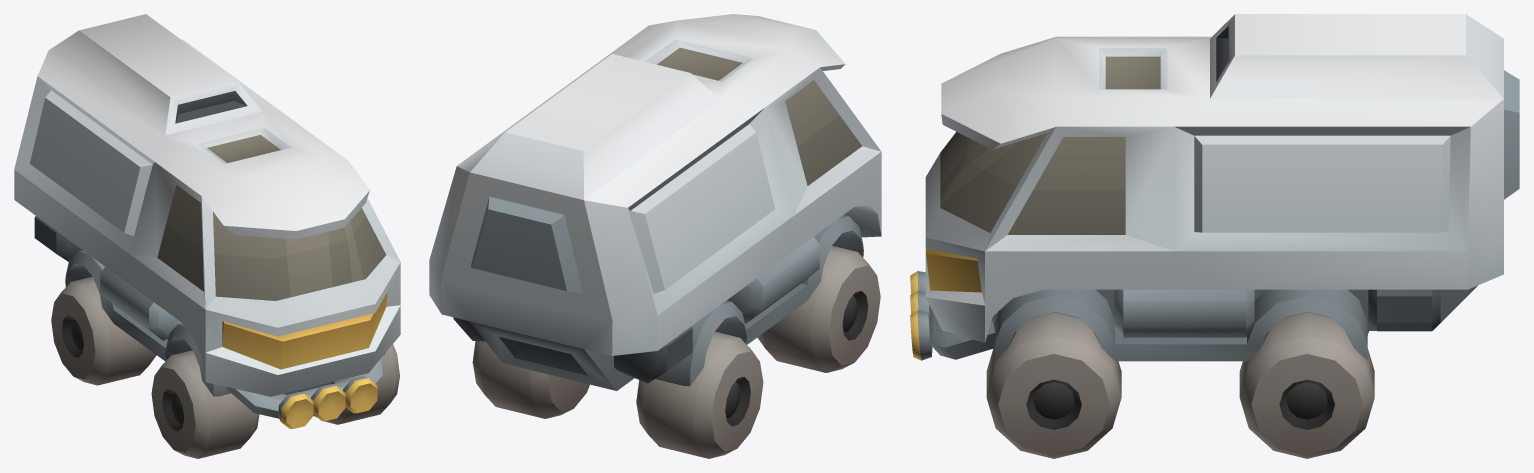
Rendered from Space Truck-HnXp3ZkfDk.glb.
The picture shows the model from 3 angles, left to right: view 1: azimuth 30°, elevation 25°; view 2: azimuth 150°, elevation 25°; view 3: azimuth 270°, elevation 25°; orthographic projection. The views are drawn at different scales.
Visible parts, largest first — view 1: spacetruck_large, spacetruck_large_wheel_front_right, spacetruck_large_wheel_rear_right, spacetruck_large_wheel_front_left; view 2: spacetruck_large, spacetruck_large_wheel_rear_right, spacetruck_large_wheel_front_right, spacetruck_large_wheel_rear_left; view 3: spacetruck_large, spacetruck_large_wheel_front_left, spacetruck_large_wheel_rear_left.
Part boxes in pixels (box(x1,y1,x2,y2)): spacetruck_large: box(14, 14, 400, 428); spacetruck_large_wheel_front_right: box(151, 350, 259, 458); spacetruck_large_wheel_rear_right: box(51, 276, 156, 385); spacetruck_large_wheel_front_left: box(313, 344, 399, 424); spacetruck_large: box(429, 14, 881, 390); spacetruck_large_wheel_rear_right: box(636, 331, 763, 458); spacetruck_large_wheel_front_right: box(757, 245, 880, 372); spacetruck_large_wheel_rear_left: box(472, 341, 589, 418); spacetruck_large: box(910, 14, 1519, 361); spacetruck_large_wheel_front_left: box(986, 312, 1121, 458); spacetruck_large_wheel_rear_left: box(1239, 312, 1374, 458).
Bounding box in the file's own units: 0.5046 × 0.6855 × 1.03.
Materials: 1 (1 with a texture image).
